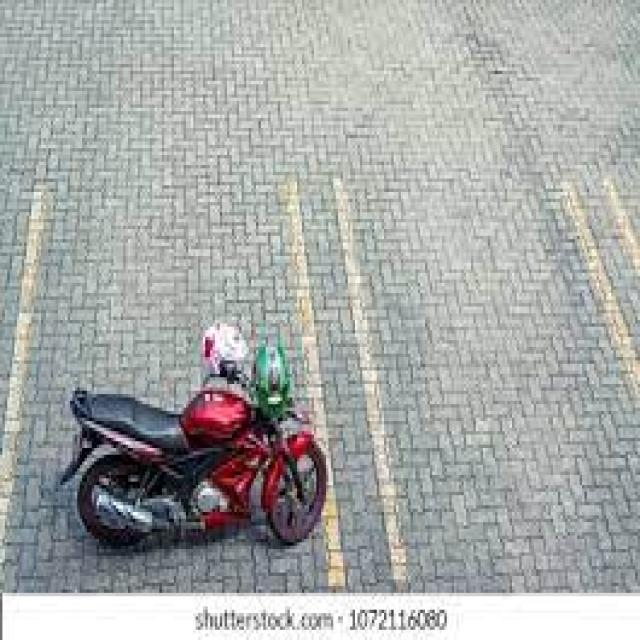bike: (64, 344, 326, 546)
